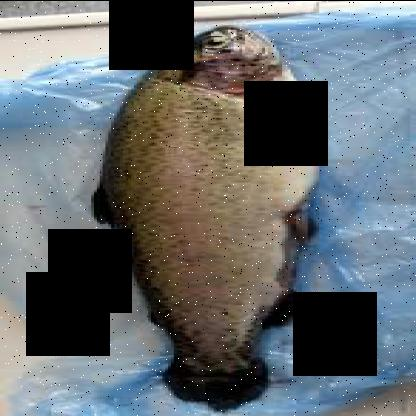fish: (84, 24, 314, 410)
